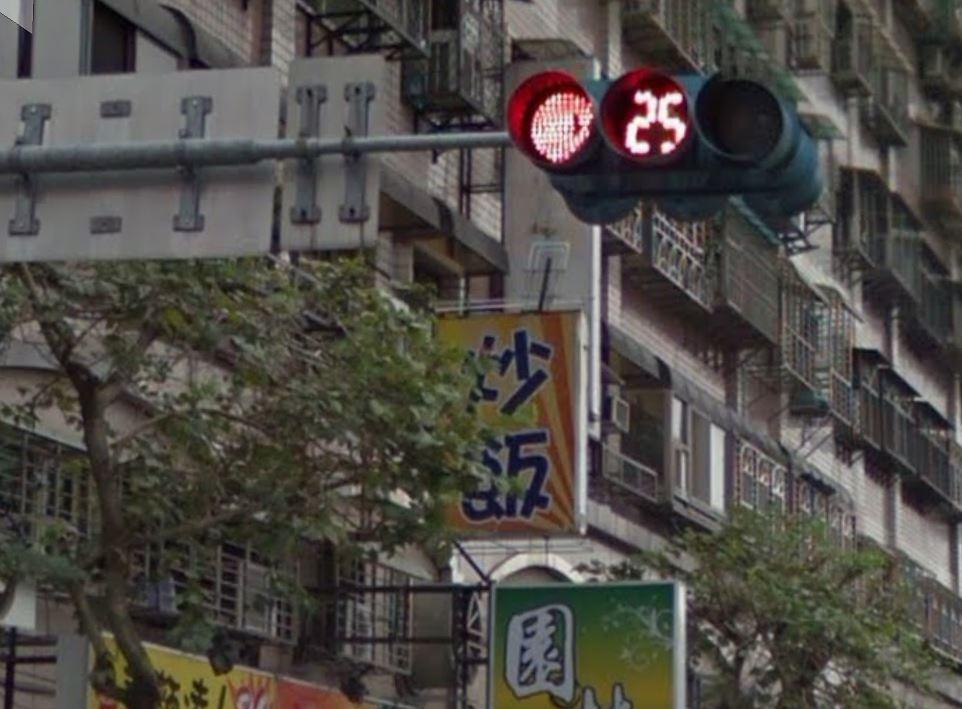red_traffic_light: (504, 69, 800, 176)
